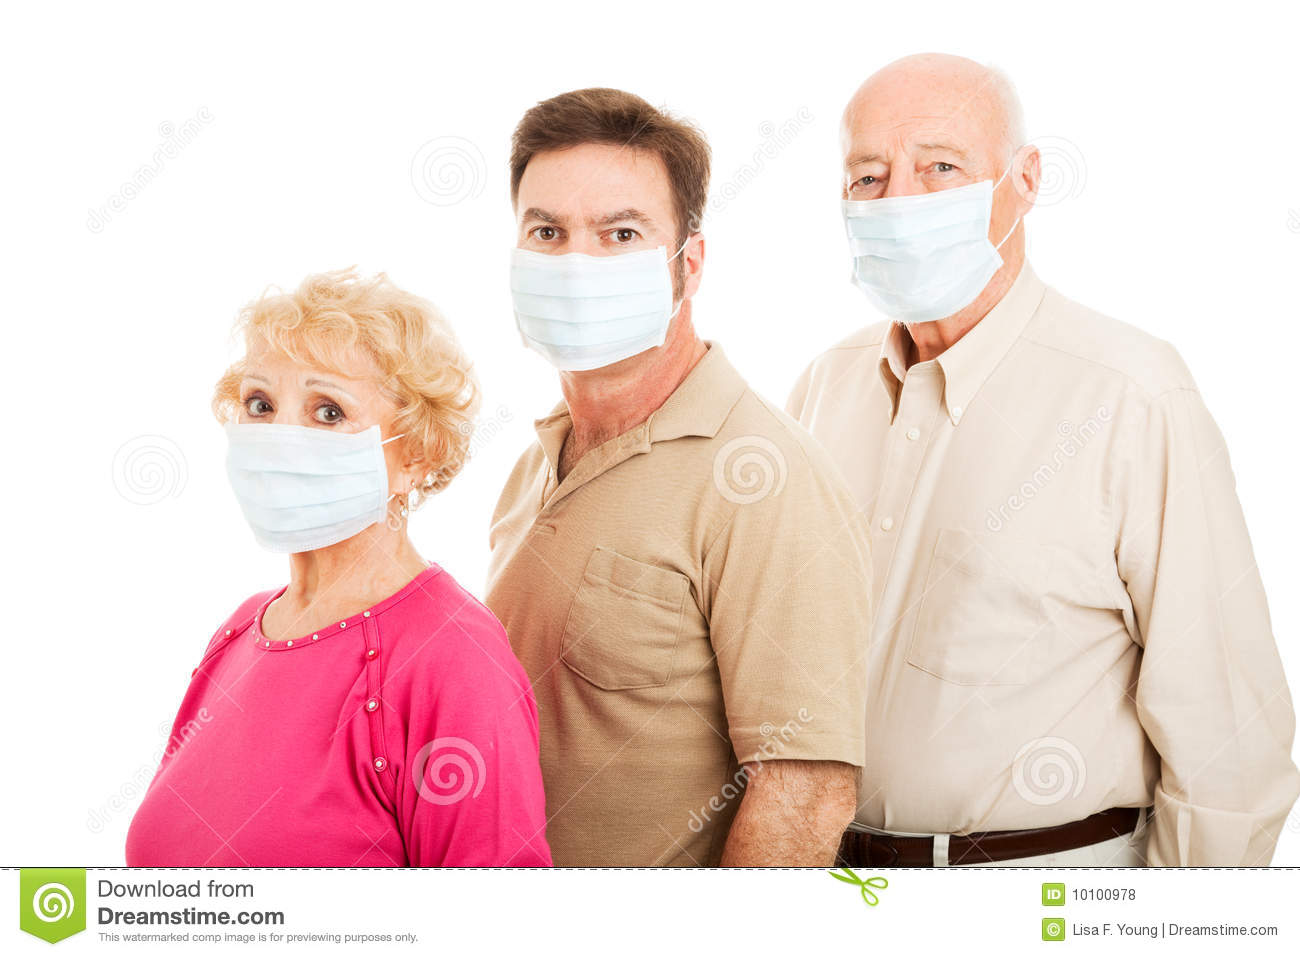mask: (843, 183, 1004, 322), (227, 423, 389, 555), (512, 245, 668, 374)
